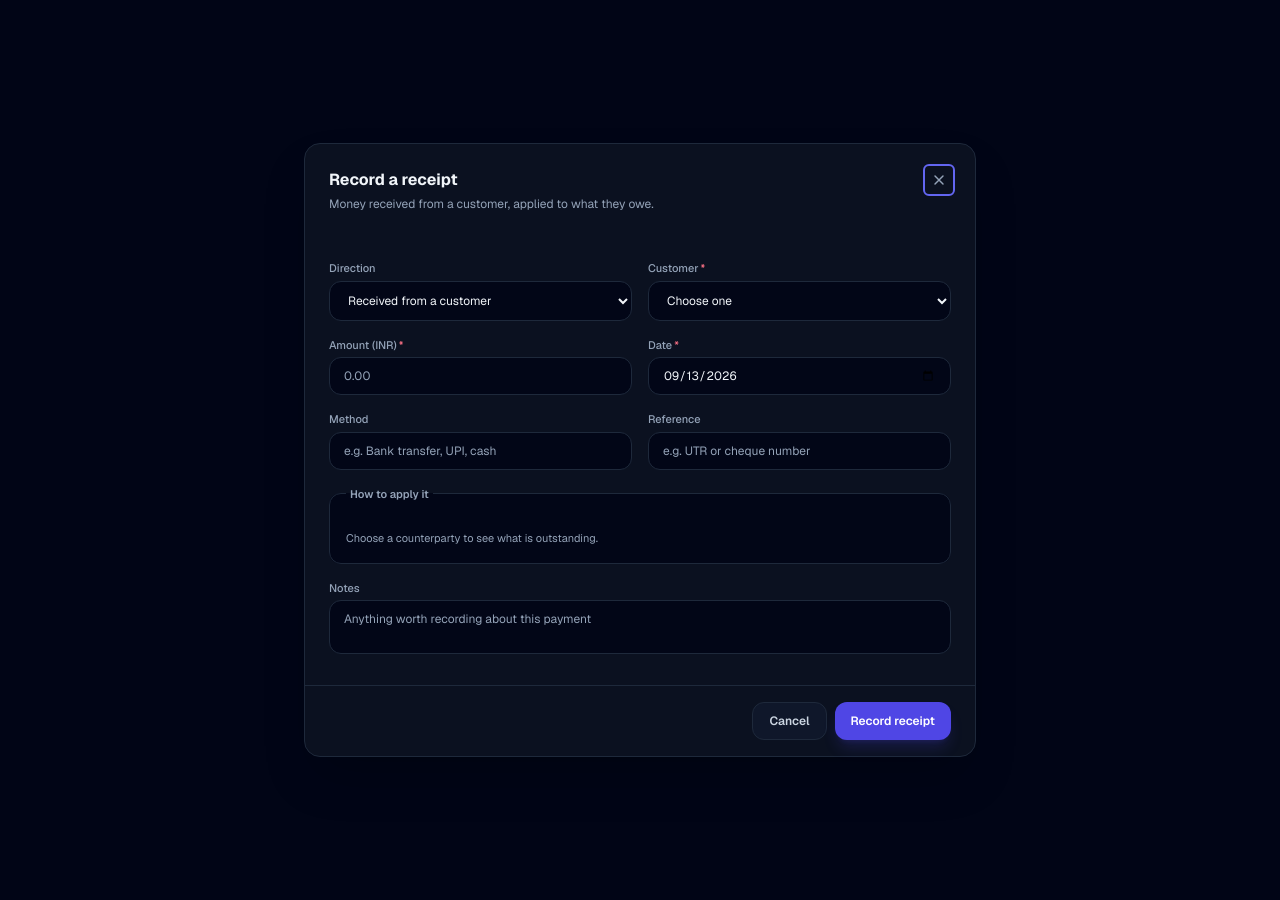
Test: RecordPaymentModal › totals what is outstanding once a counterparty is chosen
The image size is (1280, 900).
Select "Acme Ltd" in the dropdown labelled "Customer*": (800, 300) [648,280,951,320]
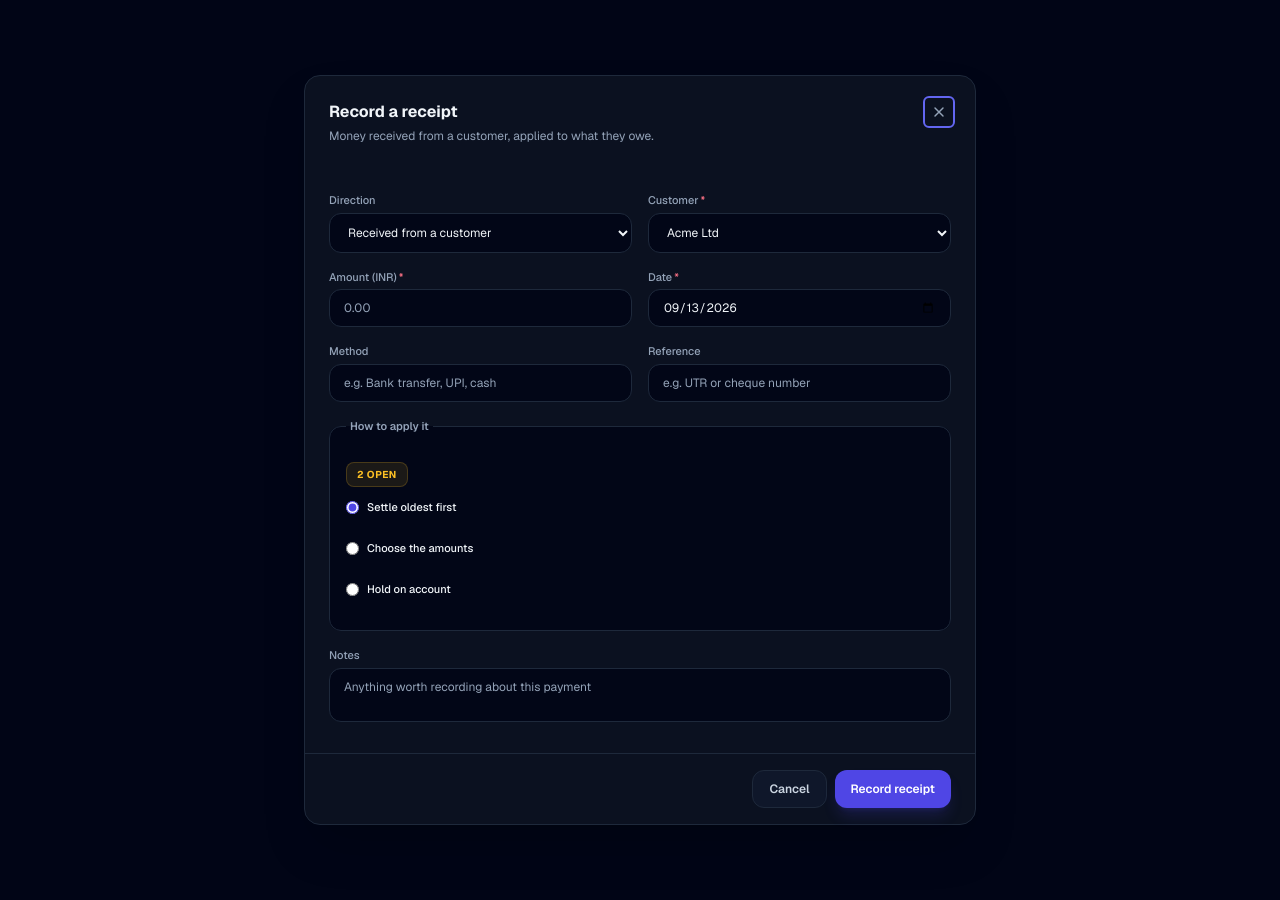
Result: the text "2 open" is shown at [346,462,408,487]
